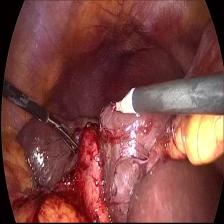Grasper: (54, 113, 80, 157)
Hook: (107, 86, 136, 117)
